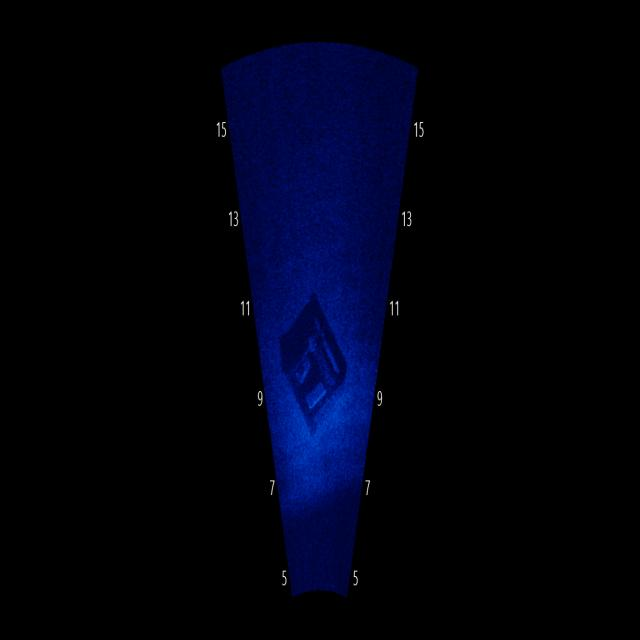square: (276, 283, 354, 451)
